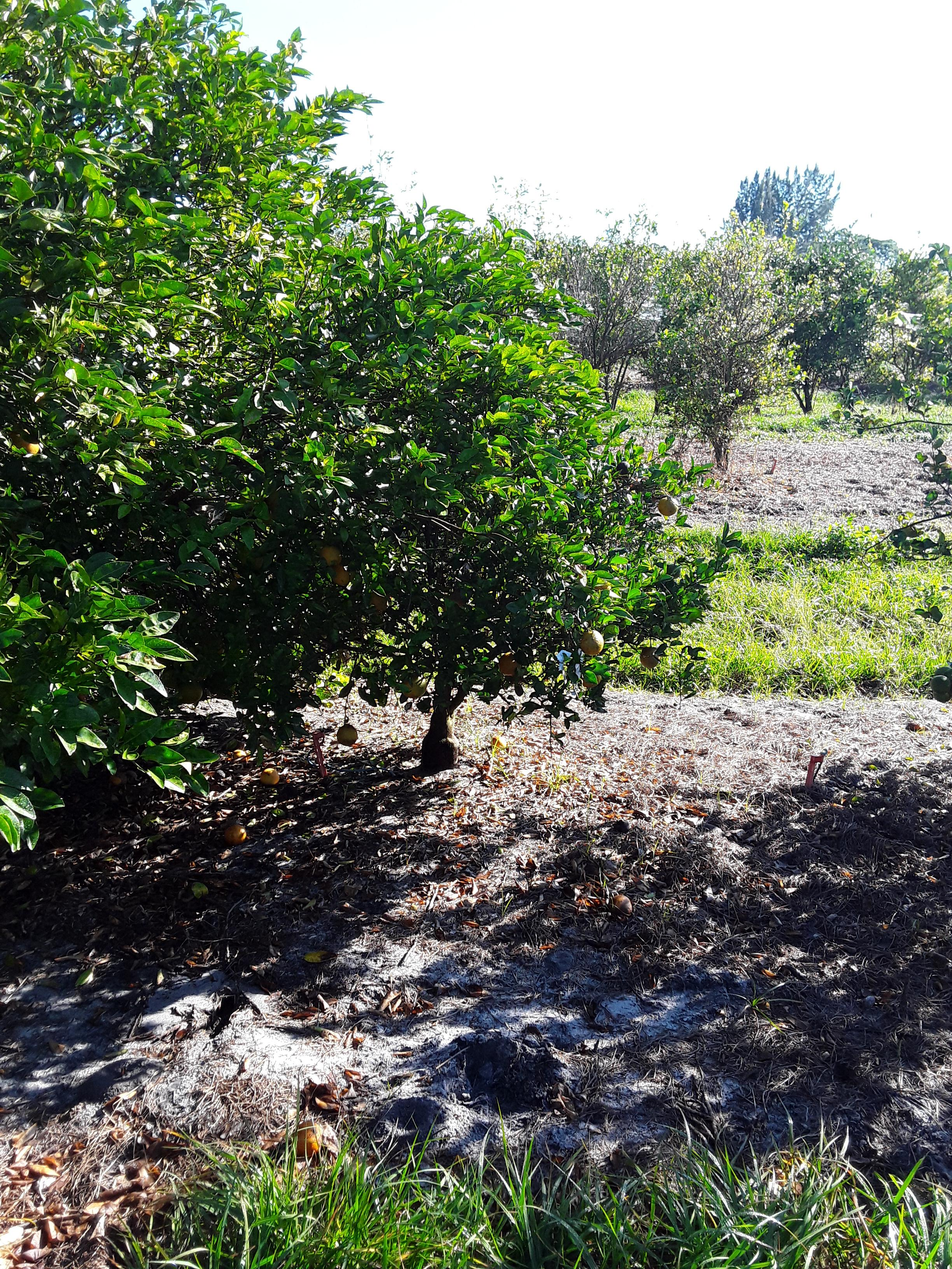fruit_on_ground: (8, 424, 42, 455), (174, 677, 206, 706), (927, 669, 952, 705), (397, 673, 429, 699), (578, 628, 606, 656), (495, 650, 522, 679), (316, 543, 344, 568), (654, 492, 681, 517), (364, 590, 390, 615), (334, 721, 360, 746), (638, 645, 663, 669), (330, 566, 353, 588), (580, 668, 602, 689)
fruit_on_tree: (288, 1123, 324, 1162), (221, 820, 250, 848), (608, 892, 635, 919), (257, 765, 282, 788), (106, 768, 129, 790), (905, 719, 924, 734), (230, 747, 249, 762)
